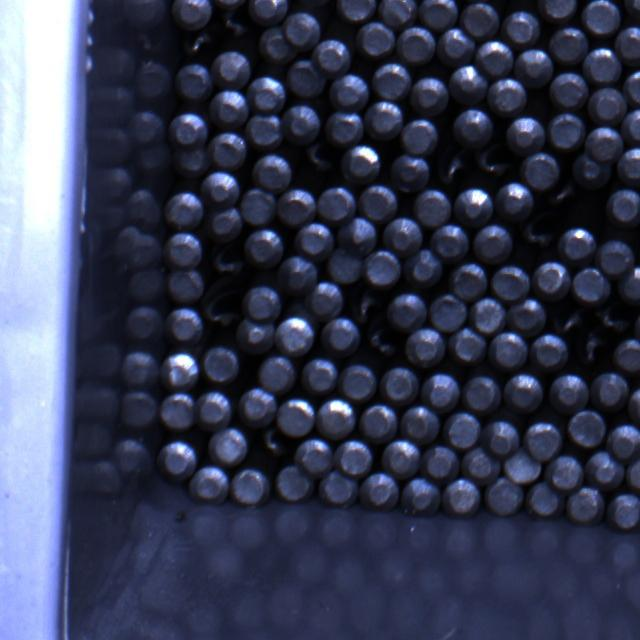tool: (585, 449, 626, 490), (318, 396, 358, 438), (504, 371, 544, 413), (387, 292, 428, 332), (402, 404, 442, 444), (448, 260, 488, 300), (422, 370, 462, 410), (474, 221, 514, 261), (524, 421, 564, 461), (405, 328, 445, 368), (317, 184, 357, 224), (363, 249, 403, 289), (274, 314, 314, 354), (492, 262, 532, 302), (548, 372, 588, 412), (358, 472, 398, 512), (188, 464, 228, 504), (379, 364, 419, 404), (236, 388, 276, 428), (452, 186, 492, 226), (244, 228, 284, 268), (157, 438, 197, 478), (496, 182, 536, 222), (453, 108, 493, 148), (400, 476, 440, 516), (286, 57, 326, 97), (341, 142, 382, 181), (276, 396, 315, 436), (277, 187, 317, 226), (429, 292, 468, 332), (488, 331, 528, 370), (358, 403, 397, 443), (257, 353, 297, 392), (208, 427, 248, 466), (295, 436, 334, 476), (463, 373, 502, 413), (357, 20, 396, 60), (566, 485, 605, 525), (506, 114, 546, 153), (462, 444, 502, 483), (383, 215, 422, 254), (452, 63, 491, 102), (533, 260, 571, 300), (384, 438, 422, 478), (398, 26, 438, 64), (230, 466, 270, 504), (484, 477, 524, 515), (488, 78, 528, 116), (567, 408, 607, 446), (413, 187, 451, 227), (334, 438, 374, 476), (548, 112, 586, 152), (365, 98, 403, 138), (358, 184, 398, 222), (280, 256, 320, 294), (312, 36, 352, 74), (282, 104, 320, 144), (508, 298, 548, 336), (524, 481, 564, 519), (254, 154, 294, 192), (195, 390, 233, 430), (591, 370, 629, 410), (372, 62, 412, 100), (520, 151, 560, 189), (411, 74, 449, 114), (402, 250, 442, 288), (330, 74, 370, 112), (274, 464, 314, 502), (176, 61, 214, 101), (391, 152, 431, 190), (163, 348, 203, 386), (235, 316, 275, 354), (460, 0, 499, 38), (438, 26, 476, 65), (210, 86, 248, 125), (514, 47, 553, 85), (318, 471, 358, 508), (159, 392, 196, 432), (336, 216, 376, 253), (442, 410, 480, 448), (340, 363, 378, 401), (574, 267, 612, 305), (301, 355, 339, 393), (470, 296, 508, 334), (422, 444, 460, 482), (530, 332, 568, 370), (202, 344, 240, 382), (296, 222, 334, 260), (442, 478, 480, 516), (550, 70, 588, 108), (323, 316, 361, 354), (448, 328, 486, 366), (596, 238, 634, 276), (305, 280, 343, 318), (212, 51, 250, 89), (550, 26, 588, 64), (431, 224, 469, 262), (166, 306, 204, 344), (248, 75, 286, 113), (167, 191, 206, 228), (503, 446, 543, 482), (242, 285, 282, 321), (546, 454, 584, 491), (586, 125, 624, 162), (476, 37, 514, 74), (402, 118, 440, 155), (284, 12, 322, 49), (208, 131, 246, 168), (167, 229, 206, 265), (558, 226, 596, 262), (590, 87, 628, 123), (504, 8, 542, 44), (482, 420, 520, 456), (326, 110, 364, 146), (249, 112, 285, 150), (170, 109, 208, 145), (582, 48, 620, 84), (258, 27, 296, 63), (241, 186, 277, 223), (582, 0, 621, 34), (607, 188, 640, 228), (328, 248, 364, 284), (204, 172, 242, 206), (165, 268, 203, 302), (206, 206, 242, 240), (572, 154, 608, 188), (607, 491, 640, 528), (608, 423, 640, 461), (419, 0, 459, 30), (170, 0, 212, 28), (378, 0, 418, 28), (174, 145, 210, 176), (248, 0, 290, 24), (614, 336, 640, 373), (617, 22, 640, 62), (336, 0, 377, 22), (618, 146, 640, 186), (618, 264, 640, 304), (538, 0, 578, 20), (624, 69, 640, 107), (625, 454, 640, 494), (624, 108, 640, 144)
tool_b: (200, 276, 242, 331), (518, 210, 558, 252), (572, 328, 612, 368), (362, 320, 400, 360), (475, 142, 513, 179), (436, 148, 472, 186), (206, 243, 244, 279), (346, 289, 383, 324), (300, 142, 336, 176), (214, 7, 250, 40), (595, 302, 632, 334), (257, 425, 291, 459), (545, 178, 577, 209), (182, 26, 215, 54)
